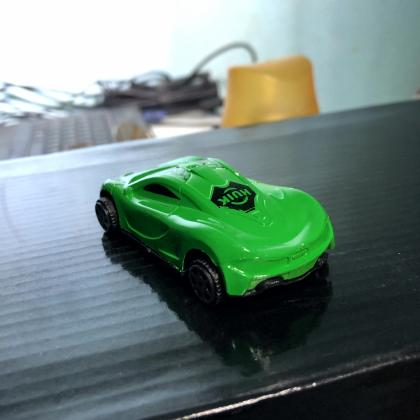Car: (89, 149, 340, 310)
